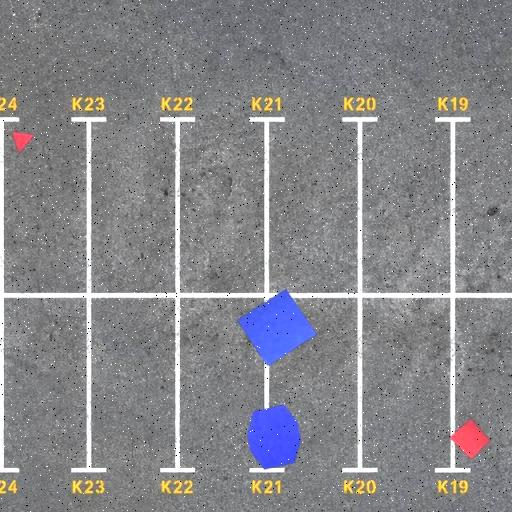BLUE_SQUARE: (236, 288, 318, 366)
RED_SQUARE: (449, 418, 491, 460)
